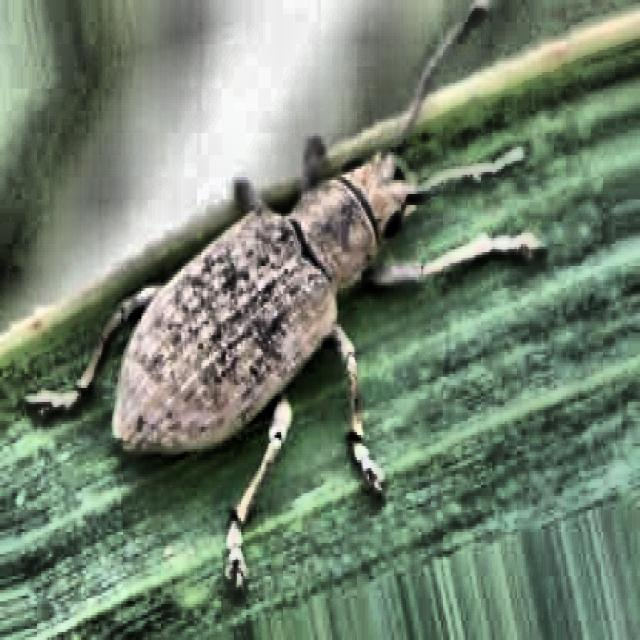Stink bug: (74, 2, 462, 576)
